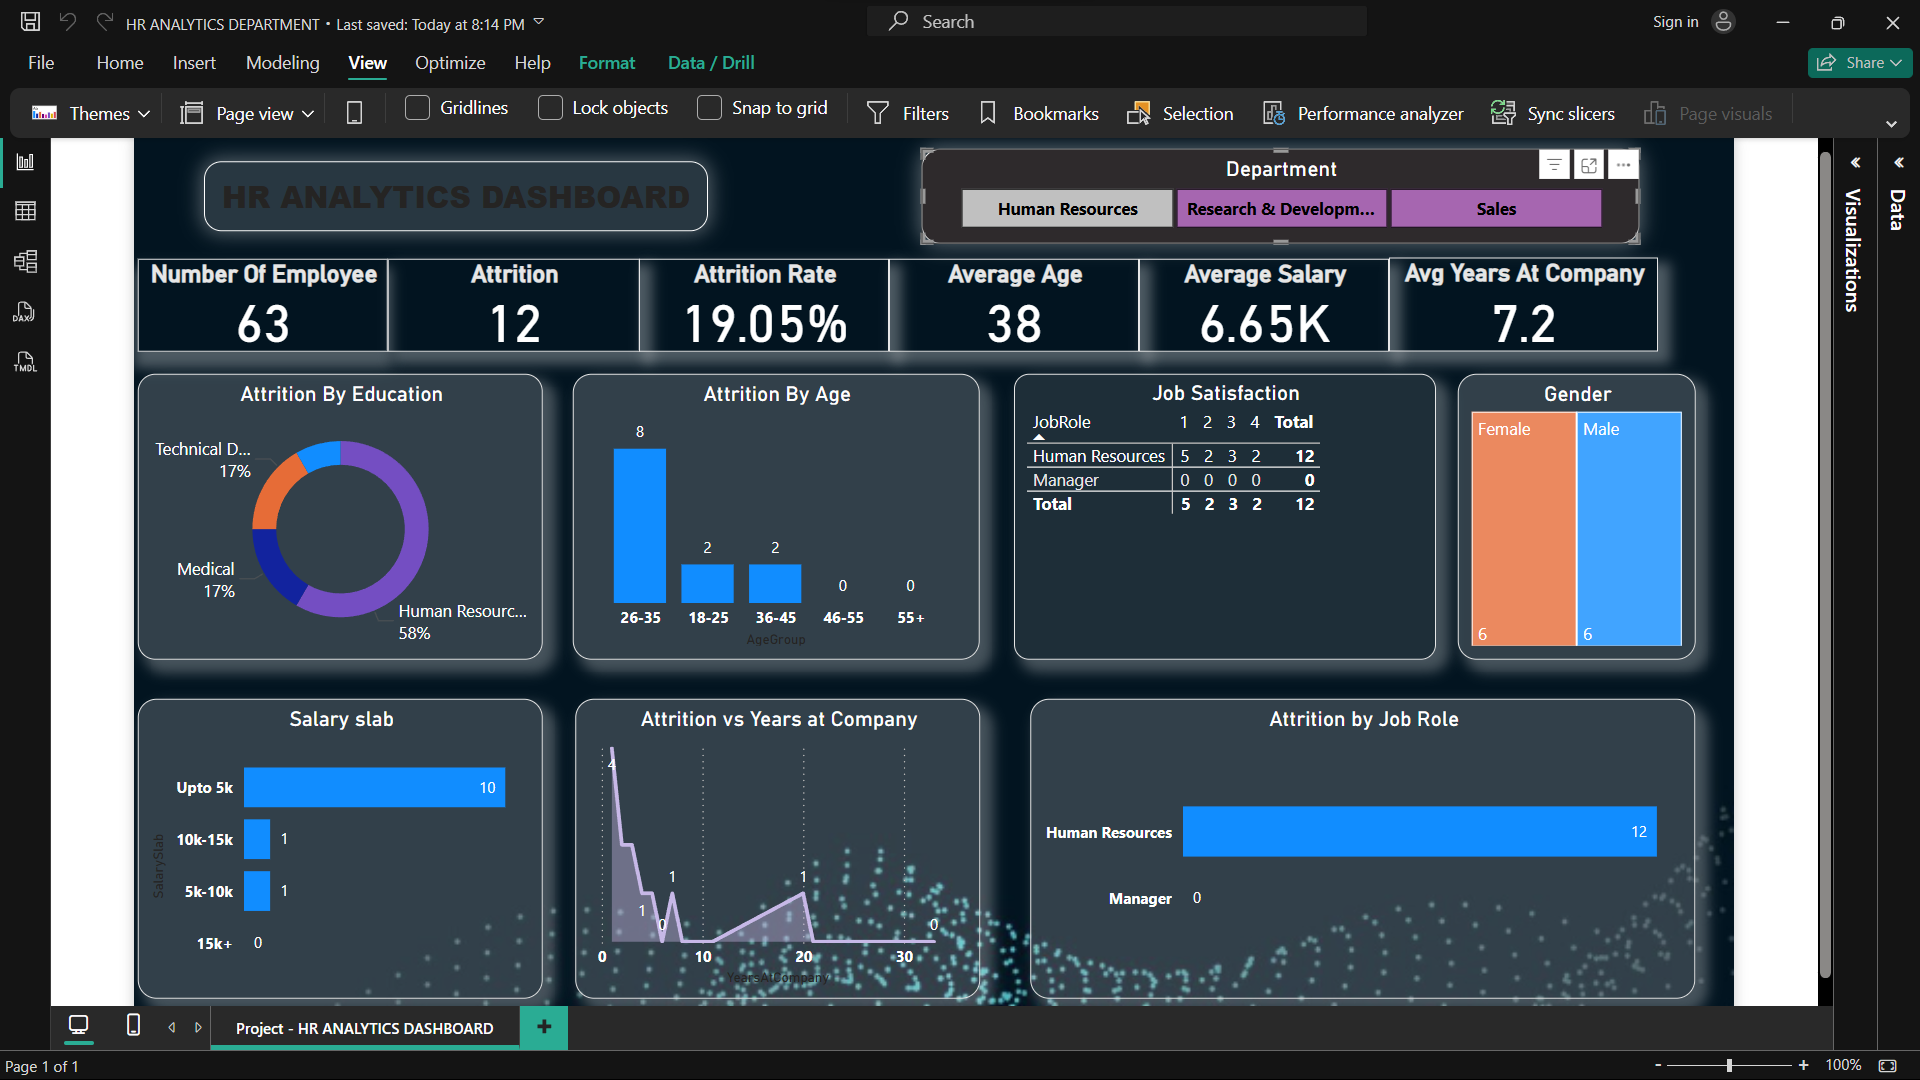

What the dashboard file says about the page in this screenshot:
{"tool":"powerbi","page":{"name":"Project - HR ANALYTICS DASHBOARD","canvas":[1280,720],"ordinal":0},"visuals":[{"type":"card","title":"Number Of Employee","fields":{"Values":["Count(HR_Analytics.EmpID)"]},"box":[3.4,98.9,200,74.3],"z":0},{"type":"card","title":"Attrition","fields":{"Values":["Sum(HR_Analytics.AttritionCount)"]},"box":[203.5,98.9,200,74.3],"z":1000},{"type":"card","title":"Attrition Rate","fields":{"Values":["HR_Analytics.AttritonRate"]},"box":[403.5,98.9,200,74.3],"z":2000},{"type":"card","title":"Average Age","fields":{"Values":["Avg(HR_Analytics.Age)"]},"box":[603.6,98.9,200,74.3],"z":3000},{"type":"card","title":"Average Salary","fields":{"Values":["Avg(HR_Analytics.MonthlyIncome)"]},"box":[803.6,98.9,200,74.3],"z":4000},{"type":"card","title":"Avg Years At Company","fields":{"Values":["Avg(HR_Analytics.YearsAtCompany)"]},"box":[1004.1,98.4,214.5,74.6],"z":5000},{"type":"donutChart","title":"Attrition By Education","fields":{"Category":["HR_Analytics.EducationField"],"Y":["Sum(HR_Analytics.AttritionCount)"]},"box":[2.9,191.4,324.3,228.6],"z":6000},{"type":"columnChart","title":"Attrition By Age","fields":{"Category":["HR_Analytics.AgeGroup"],"Y":["Sum(HR_Analytics.AttritionCount)"]},"box":[351.4,191.4,324.3,228.6],"z":7000},{"type":"pivotTable","title":"Job Satisfaction","fields":{"Rows":["HR_Analytics.JobRole"],"Columns":["HR_Analytics.JobSatisfaction"],"Values":["Sum(HR_Analytics.AttritionCount)"]},"box":[704.3,191.4,337.1,228.6],"z":8000},{"type":"barChart","title":"Salary slab","fields":{"Category":["HR_Analytics.SalarySlab"],"Y":["Sum(HR_Analytics.AttritionCount)"]},"box":[2.9,451.4,324.3,240],"z":9000},{"type":"barChart","title":"Attrition by Job Role","fields":{"Category":["HR_Analytics.JobRole"],"Y":["Sum(HR_Analytics.AttritionCount)"]},"box":[717.1,451.4,531.4,240],"z":10000},{"type":"areaChart","title":"Attrition vs Years at Company","fields":{"Category":["HR_Analytics.YearsAtCompany"],"Y":["Sum(HR_Analytics.AttritionCount)"]},"box":[352.9,451.4,324.3,240],"z":11000},{"type":"treemap","title":"Gender","fields":{"Group":["HR_Analytics.Gender"],"Values":["Sum(HR_Analytics.AttritionCount)"]},"box":[1058.6,191.4,190,228.6],"z":12000},{"type":"slicer","title":"Department","fields":{"Values":["HR_Analytics.Department"]},"box":[630,11.4,574.3,75.7],"z":13000},{"type":"textbox","box":[55.7,21.4,402.9,55.7],"z":14000}]}

Visuals, with their boxes on the page's 1280x720 design canvas (x1, y1, x2, y2). These are canvas units, not pixel positions in the 1920x1080 screenshot, which may show the page scaled, cropped or inside an application window:
"Number Of Employee" card: (x1=3, y1=99, x2=203, y2=173)
"Attrition" card: (x1=204, y1=99, x2=404, y2=173)
"Attrition Rate" card: (x1=404, y1=99, x2=604, y2=173)
"Average Age" card: (x1=604, y1=99, x2=804, y2=173)
"Average Salary" card: (x1=804, y1=99, x2=1004, y2=173)
"Avg Years At Company" card: (x1=1004, y1=98, x2=1219, y2=173)
"Attrition By Education" donutChart: (x1=3, y1=191, x2=327, y2=420)
"Attrition By Age" columnChart: (x1=351, y1=191, x2=676, y2=420)
"Job Satisfaction" pivotTable: (x1=704, y1=191, x2=1041, y2=420)
"Salary slab" barChart: (x1=3, y1=451, x2=327, y2=691)
"Attrition by Job Role" barChart: (x1=717, y1=451, x2=1248, y2=691)
"Attrition vs Years at Company" areaChart: (x1=353, y1=451, x2=677, y2=691)
"Gender" treemap: (x1=1059, y1=191, x2=1249, y2=420)
"Department" slicer: (x1=630, y1=11, x2=1204, y2=87)
textbox: (x1=56, y1=21, x2=459, y2=77)
